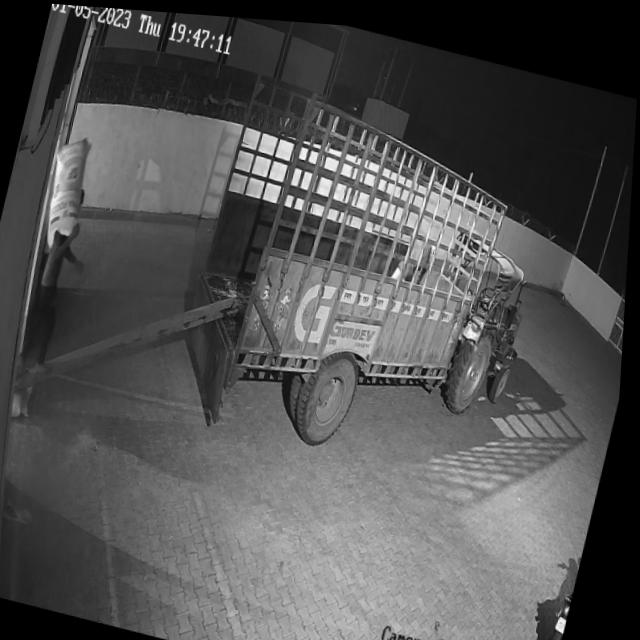sack: (37, 129, 101, 254)
